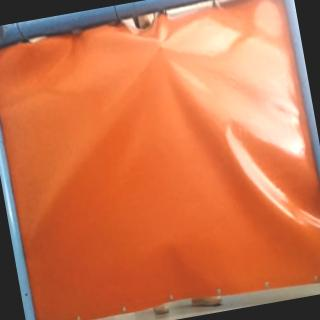Hit-hRxx: (154, 38, 173, 52)
